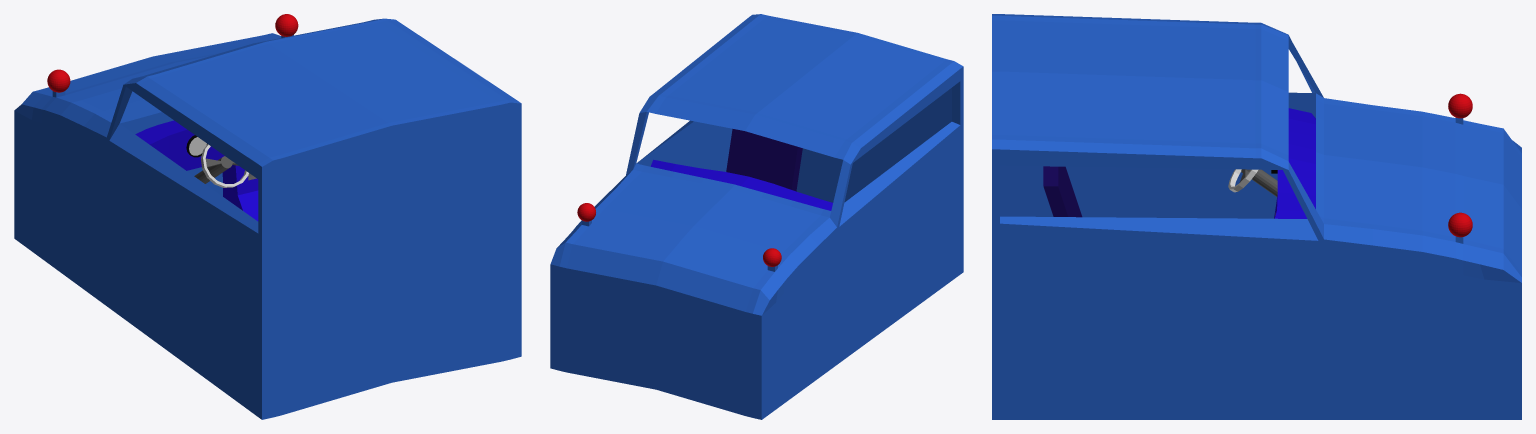
3 views of the same model, side by side, from view 1: azimuth 30°, elevation 25°; view 2: azimuth 150°, elevation 25°; view 3: azimuth 270°, elevation 25° (orthographic). The views are drawn at different scales.
Visible parts, largest first — view 1: Cube, Cylinder.002; view 2: Cube, Cube.001; view 3: Cube, Cube.001, Cylinder.002.
Boxes of the visible parts, x1,y1,x2,y2 form: Cube: (14, 14, 521, 419); Cylinder.002: (194, 144, 248, 187); Cube: (550, 14, 963, 419); Cube.001: (726, 129, 802, 191); Cube: (992, 14, 1521, 419); Cube.001: (1043, 166, 1082, 217); Cylinder.002: (1228, 169, 1277, 196).
Size of the model in its own units: 195 by 187 by 319.
